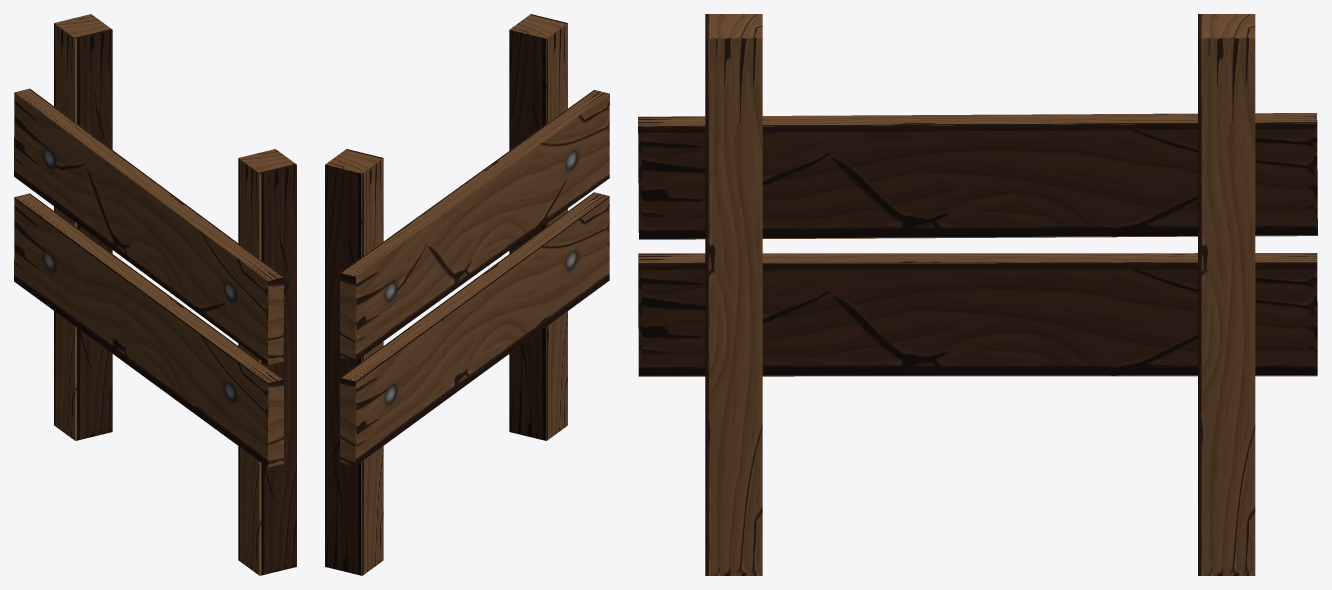
The model's file is WoodFence 1.fbx.
3 renders of one model, left to right at view 1: azimuth 30°, elevation 25°; view 2: azimuth 150°, elevation 25°; view 3: azimuth 270°, elevation 25°, orthographic. The views are drawn at different scales.
Parts seen in each view (by area): view 1: polySurface17; view 2: polySurface17; view 3: polySurface17.
Boxes of the visible parts, x1=… form: polySurface17: x1=14, y1=14, x2=296, y2=575; polySurface17: x1=325, y1=14, x2=609, y2=575; polySurface17: x1=638, y1=14, x2=1317, y2=575.
Size of the model in its own units: 2.43 by 17.35 by 19.88.
Materials: 1 (1 with a texture image).
